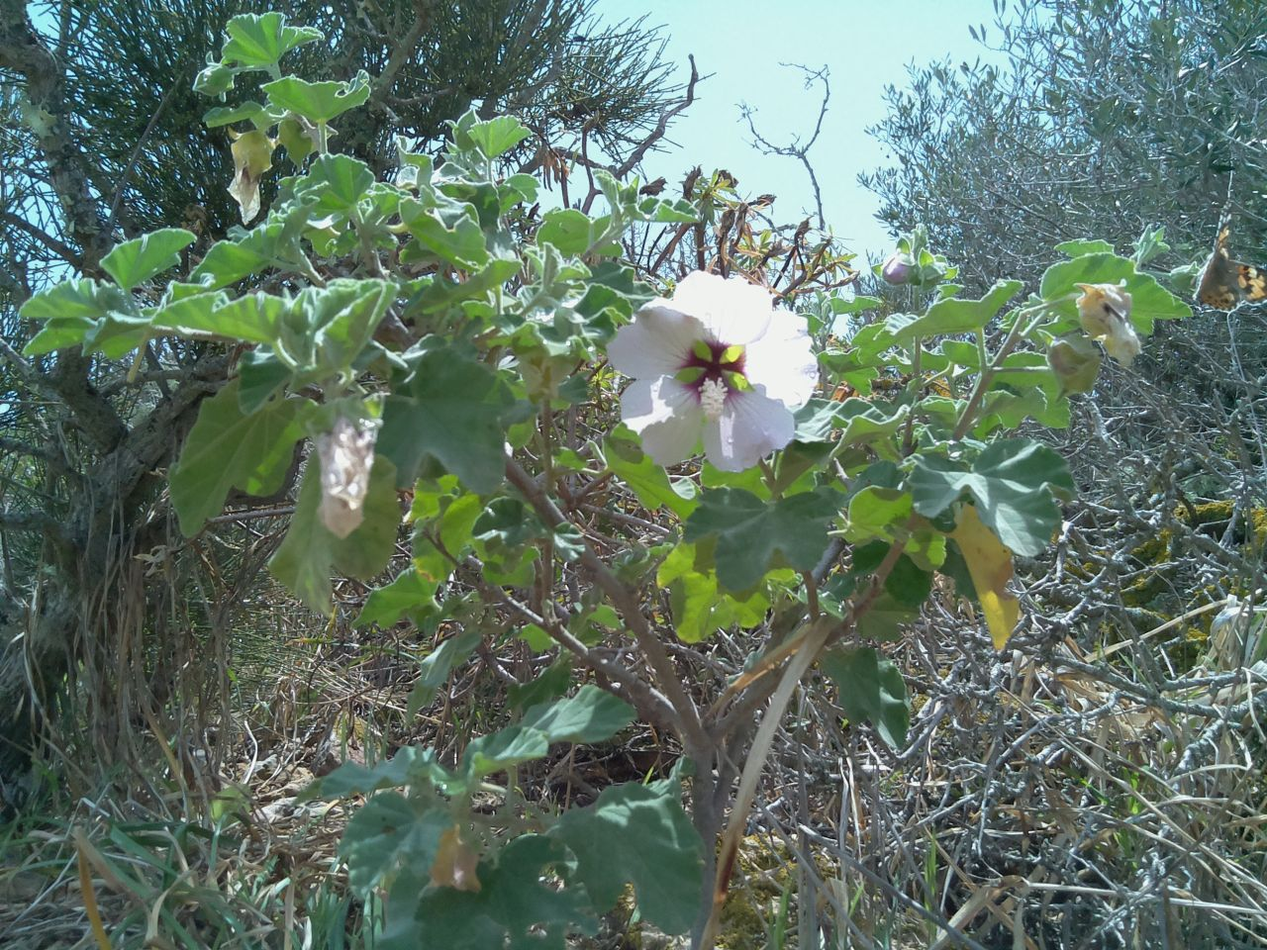Vanessa cardui: (1160, 160, 1267, 343)
